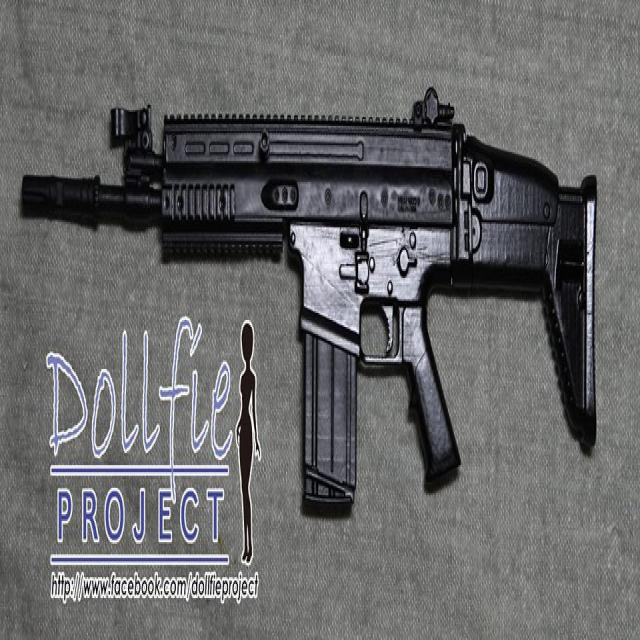Gun: (11, 73, 604, 554)
